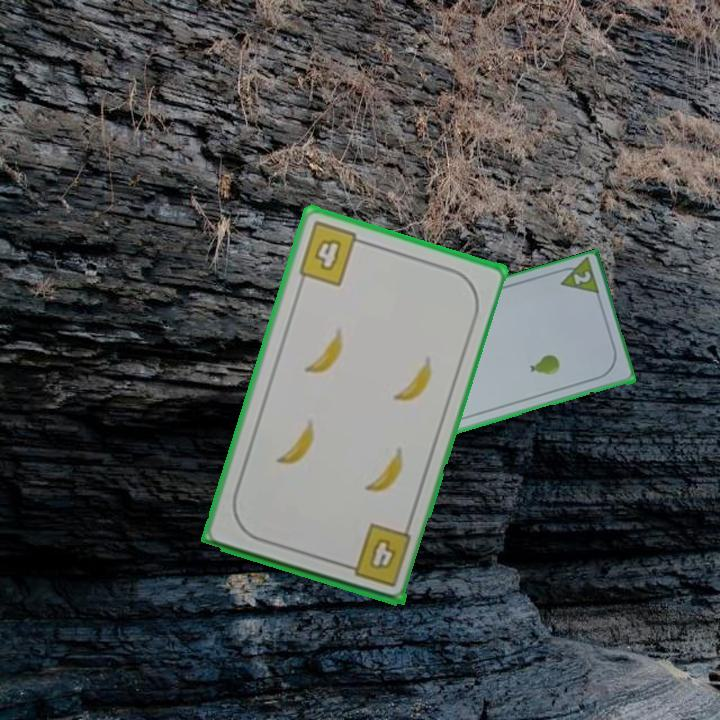2p: (552, 256, 602, 300)
4b: (294, 218, 370, 289), (339, 520, 414, 590)
